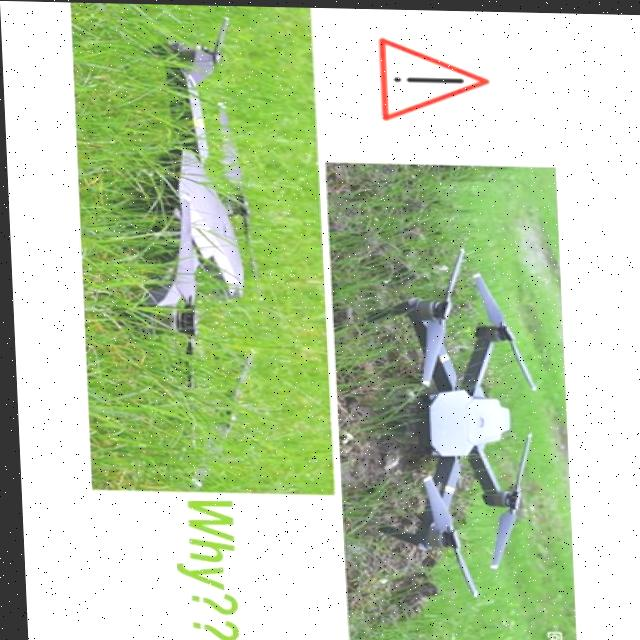drone: (101, 3, 275, 458), (343, 254, 548, 605)
